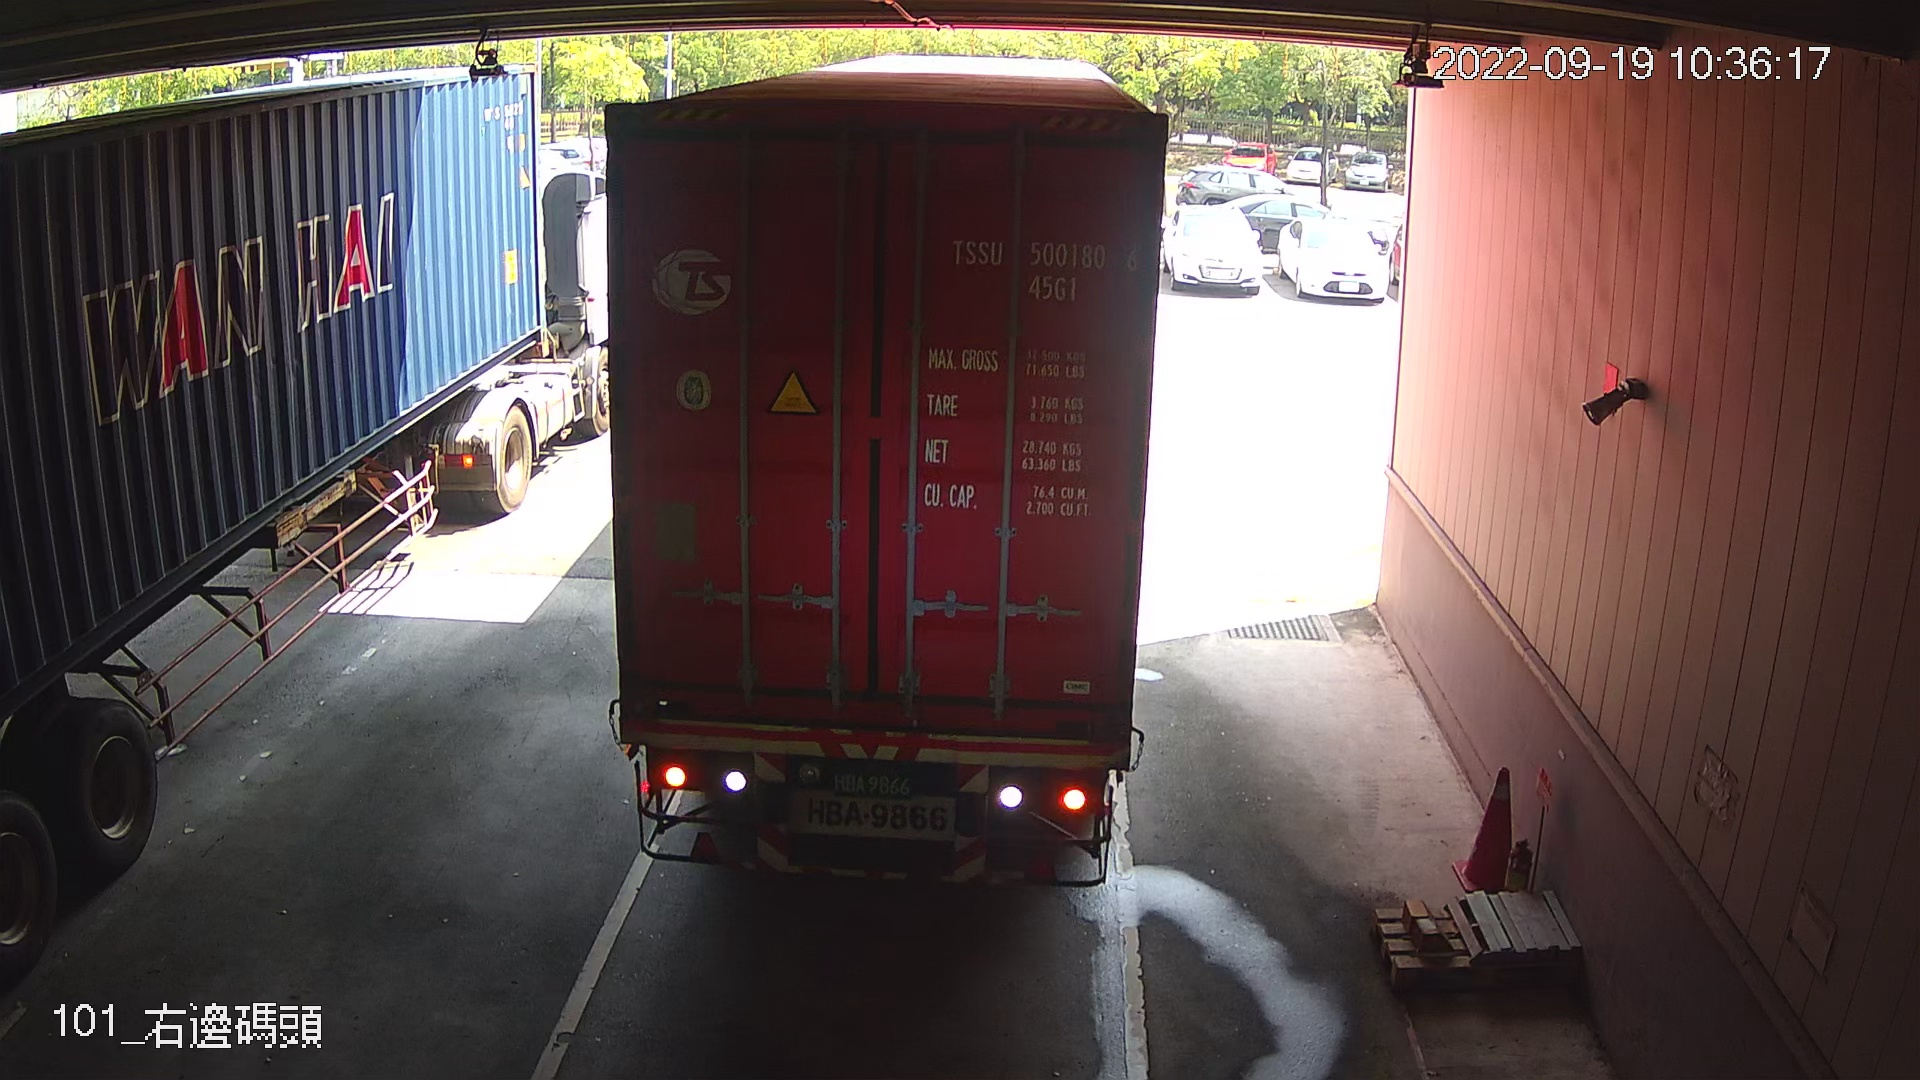container: (942, 227, 1147, 314)
